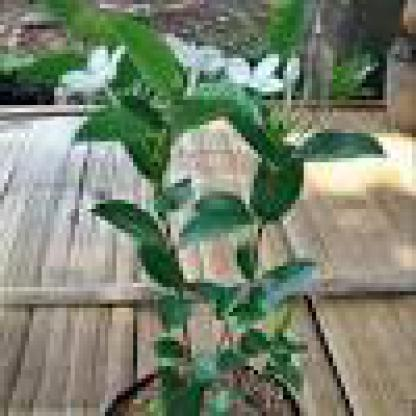Melati: (222, 34, 297, 126), (159, 10, 213, 93), (51, 43, 126, 84)
